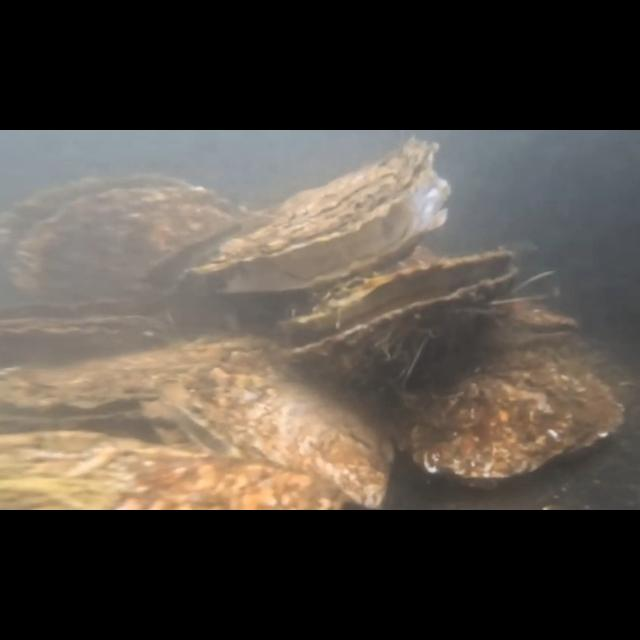Oyster-Closed: (401, 346, 625, 492), (0, 430, 338, 510)
Oyster-Open: (176, 136, 454, 304), (156, 362, 394, 512), (0, 172, 252, 304), (276, 248, 522, 378), (0, 331, 232, 431), (0, 312, 174, 364), (470, 294, 582, 354)
